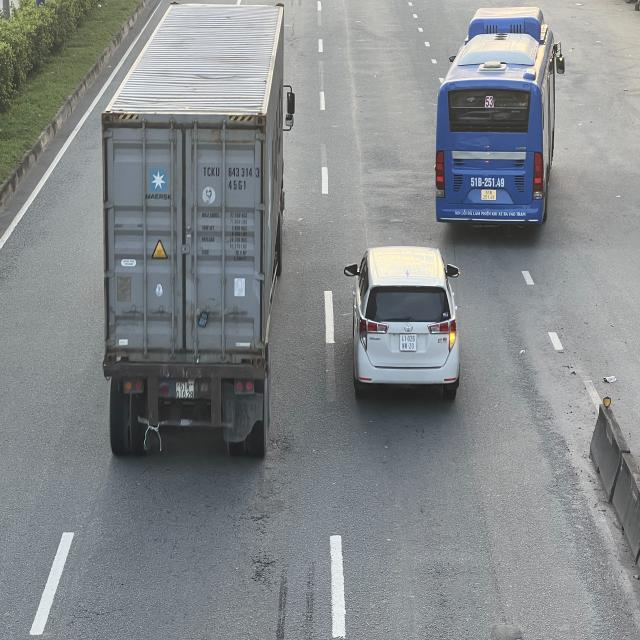car: (342, 248, 460, 403)
coach: (432, 8, 566, 234)
container: (99, 1, 295, 451)
